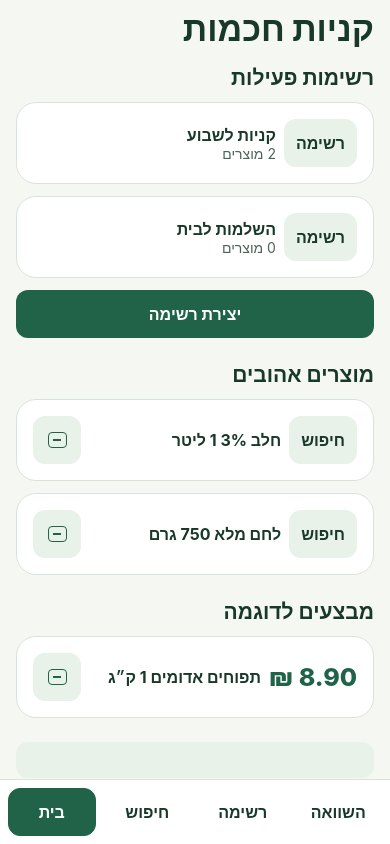
Test: moves purchased items below pending ones and restores deleted items
Later steps or results of the test are not shown.
Click the button with aria-label "קניות לשבוע" at (320, 143), box [284,119,357,167]
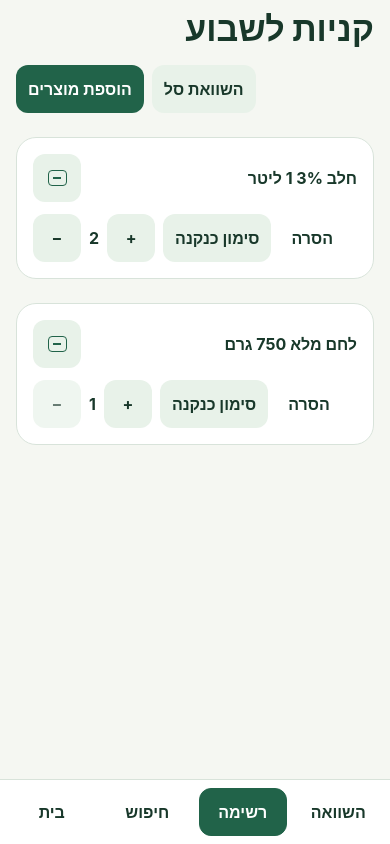
Click the button "סימון כנקנה" below "חלב 3% 1 ליטר" at (217, 238), box [163,214,271,262]
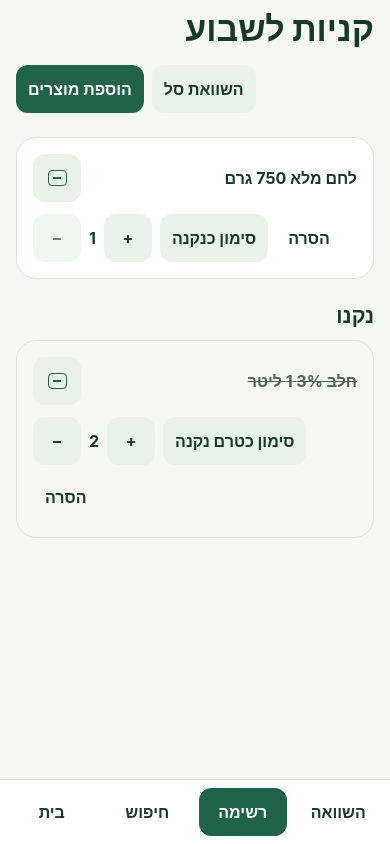
expect the text "חלב 3% 1 ליטר" has style "textDecorationLine: line-through": met, box [248,371,357,391]
